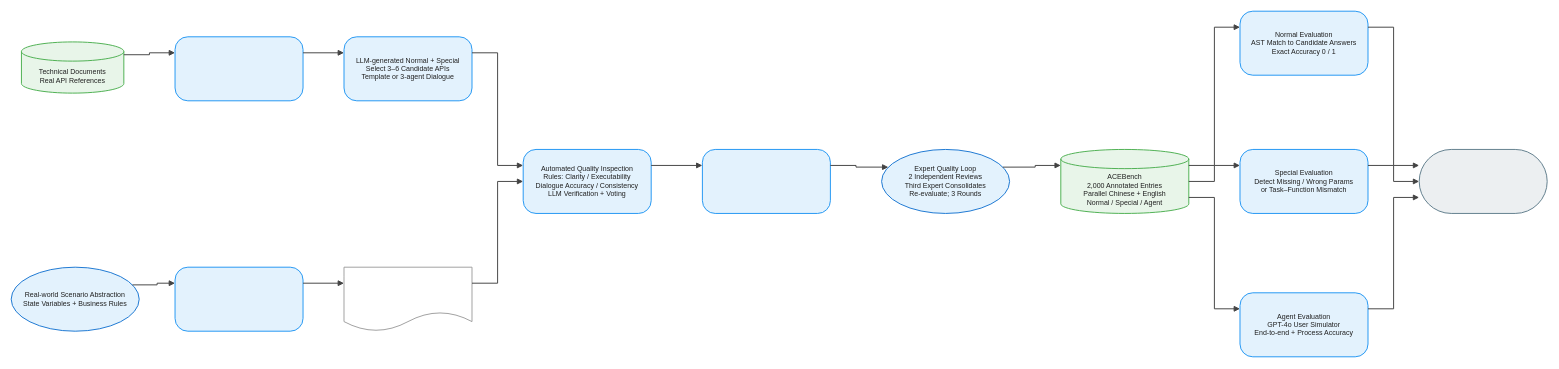
Image size: 1559x369. Some labels were removed from this diagram. Here are the shapes that lost their labels. From the top down, the box of each, then its label:
(174, 36, 303, 101): Self-evolving API Tree 4,538 Synthetic APIs 8 Domains / 68 Subdomains
(702, 149, 831, 214): Human-assisted Triage 3 LLMs Flag Error Candidates
(1418, 149, 1547, 214): Overall Accuracy Category Weights ∝ √Sample Size Fine-grained Error Analysis
(174, 266, 303, 331): Expert-built Sandbox Interfaces + Preconditions State + Execution Monitoring
(343, 266, 472, 331): Expert Agent Data Iterative Question Design Multi-step / Multi-turn
